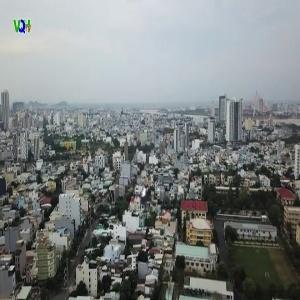drone: (114, 166, 184, 236)
